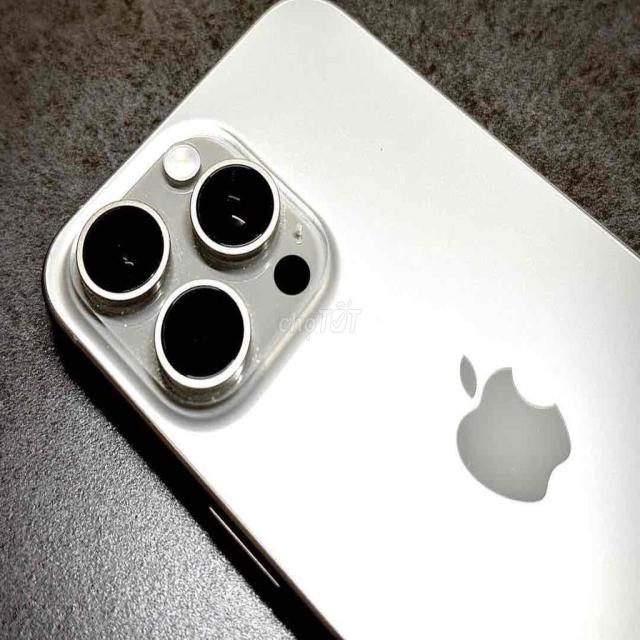gen_16: (43, 0, 639, 639)
